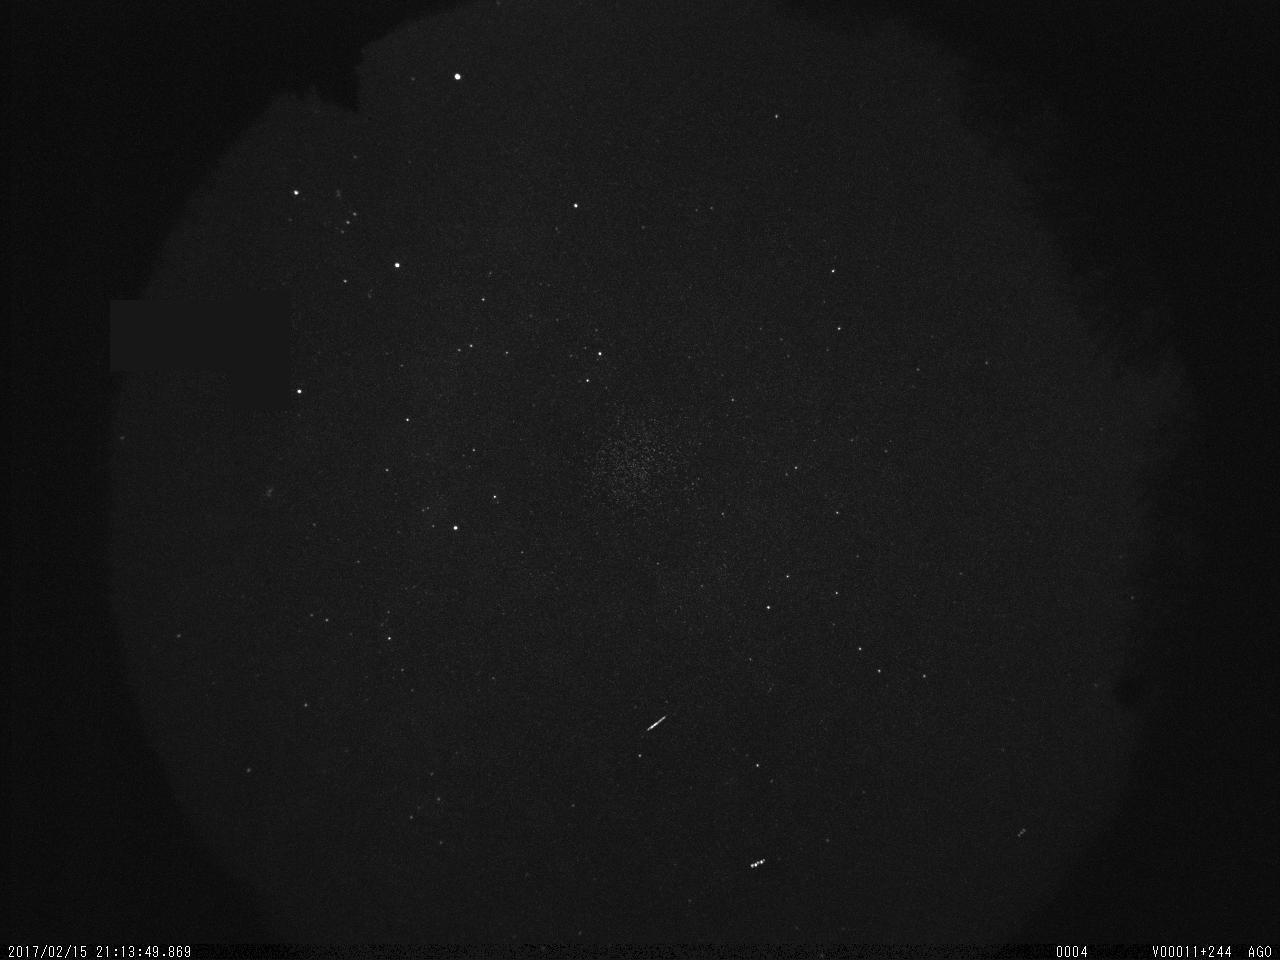meteor: (637, 708, 672, 741)
satelite: (748, 847, 771, 874)
